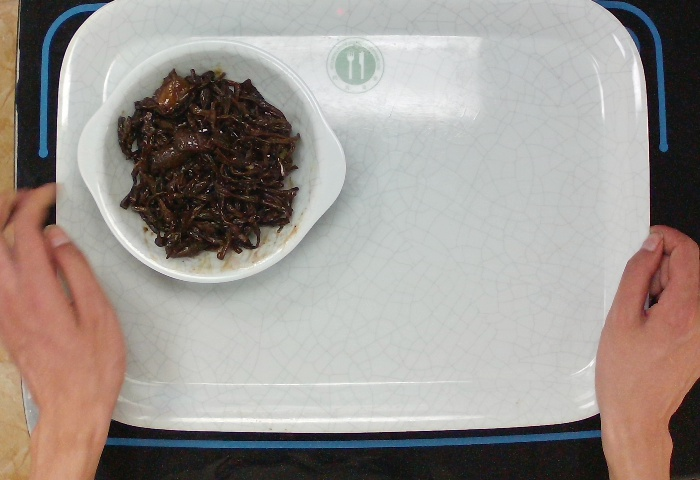JYsf-Shuang_Er_Wan: (77, 39, 345, 297)
